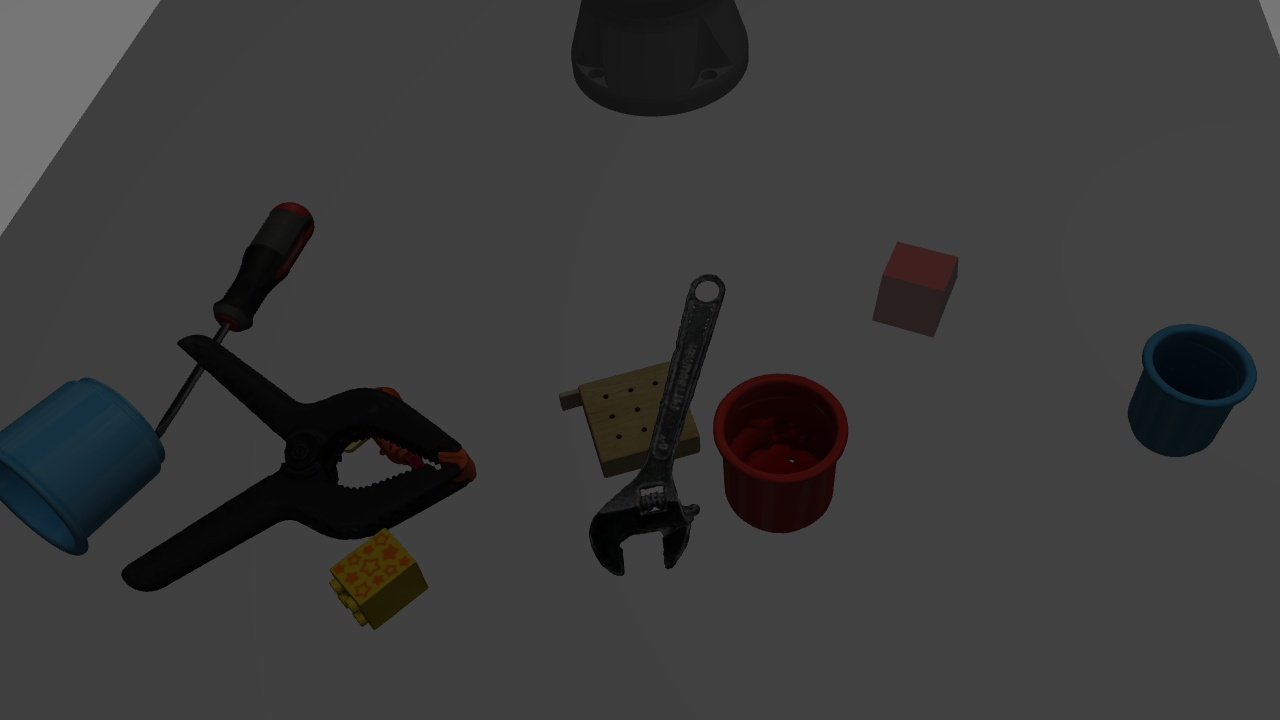nine_hole_peg_test: (558, 365, 702, 465)
